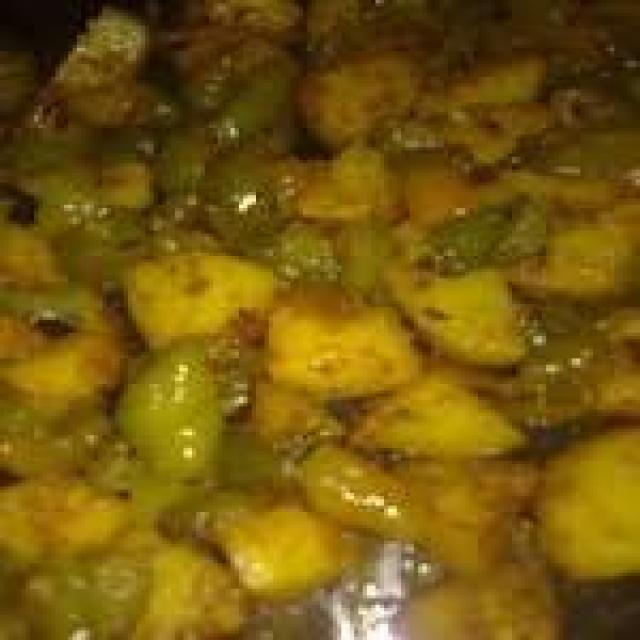potato: (183, 264, 637, 625)
